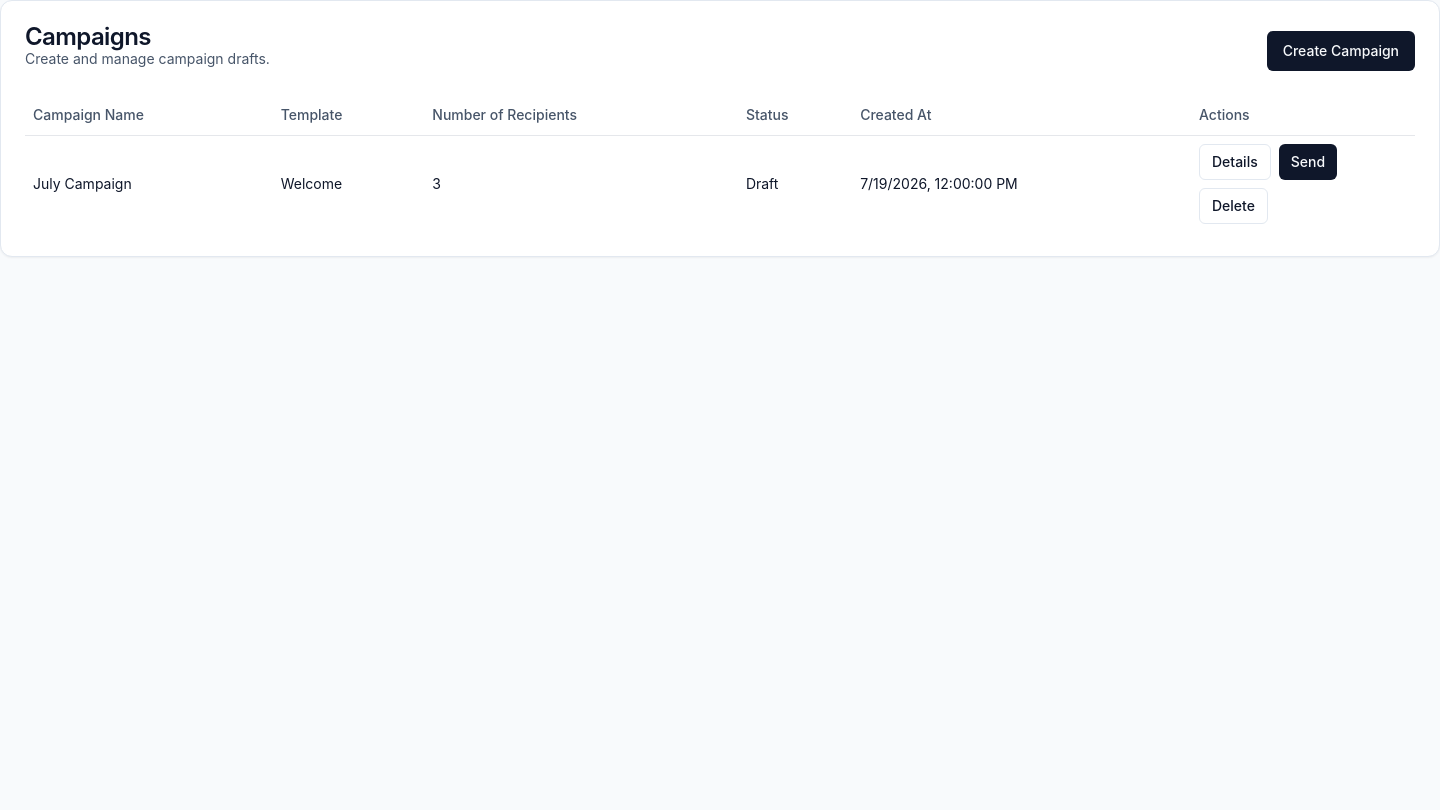
Test case: CampaignsPage › deletes campaign after confirmation and refreshes list
The width and height of the screenshot is (1440, 810).
Click the button "Delete". click: (1233, 206)
box: [1199,188,1268,224]
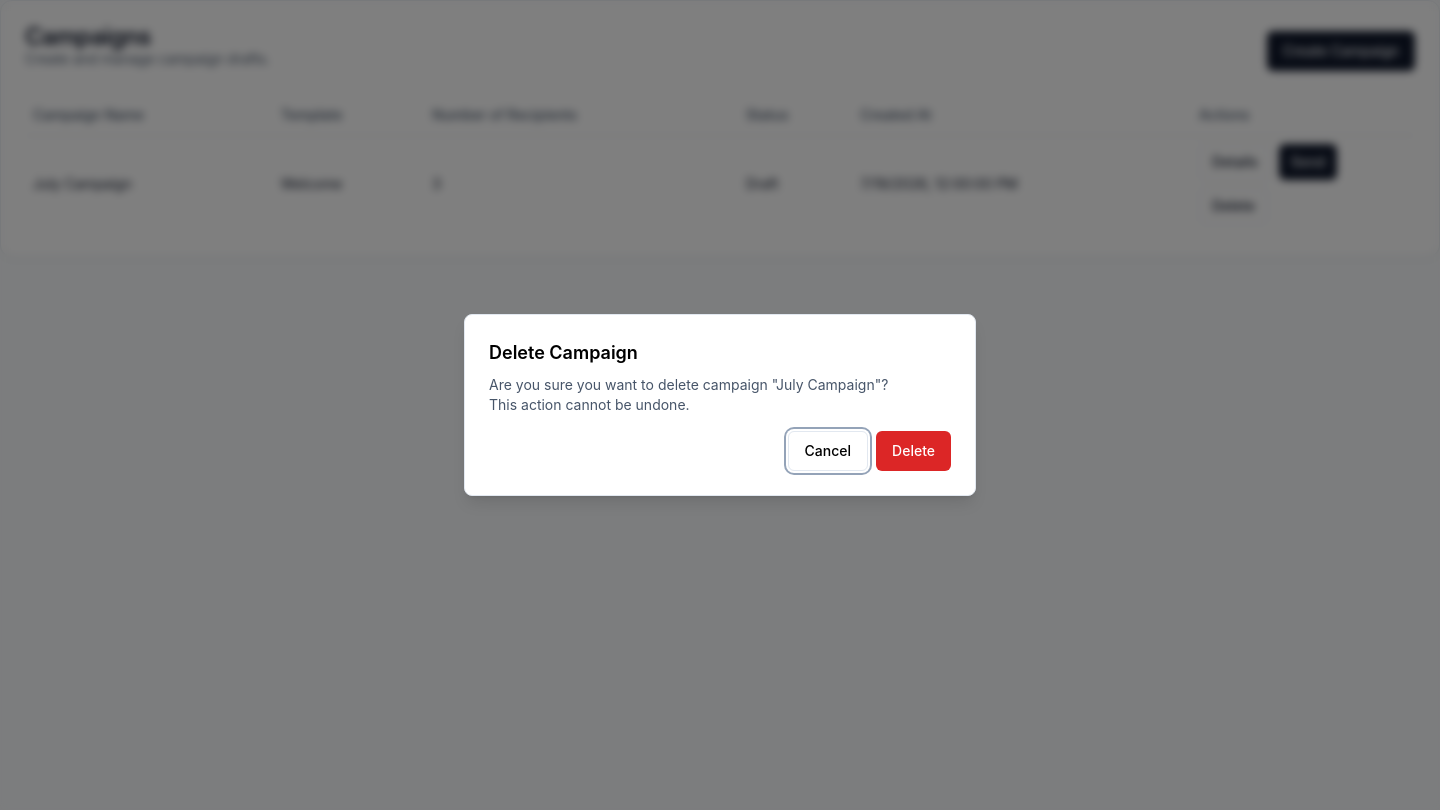
Check: the heading "Delete Campaign" is shown, box [489,342,638,363]
Click the button "Delete". click: (914, 451)
box: [876,431,951,471]
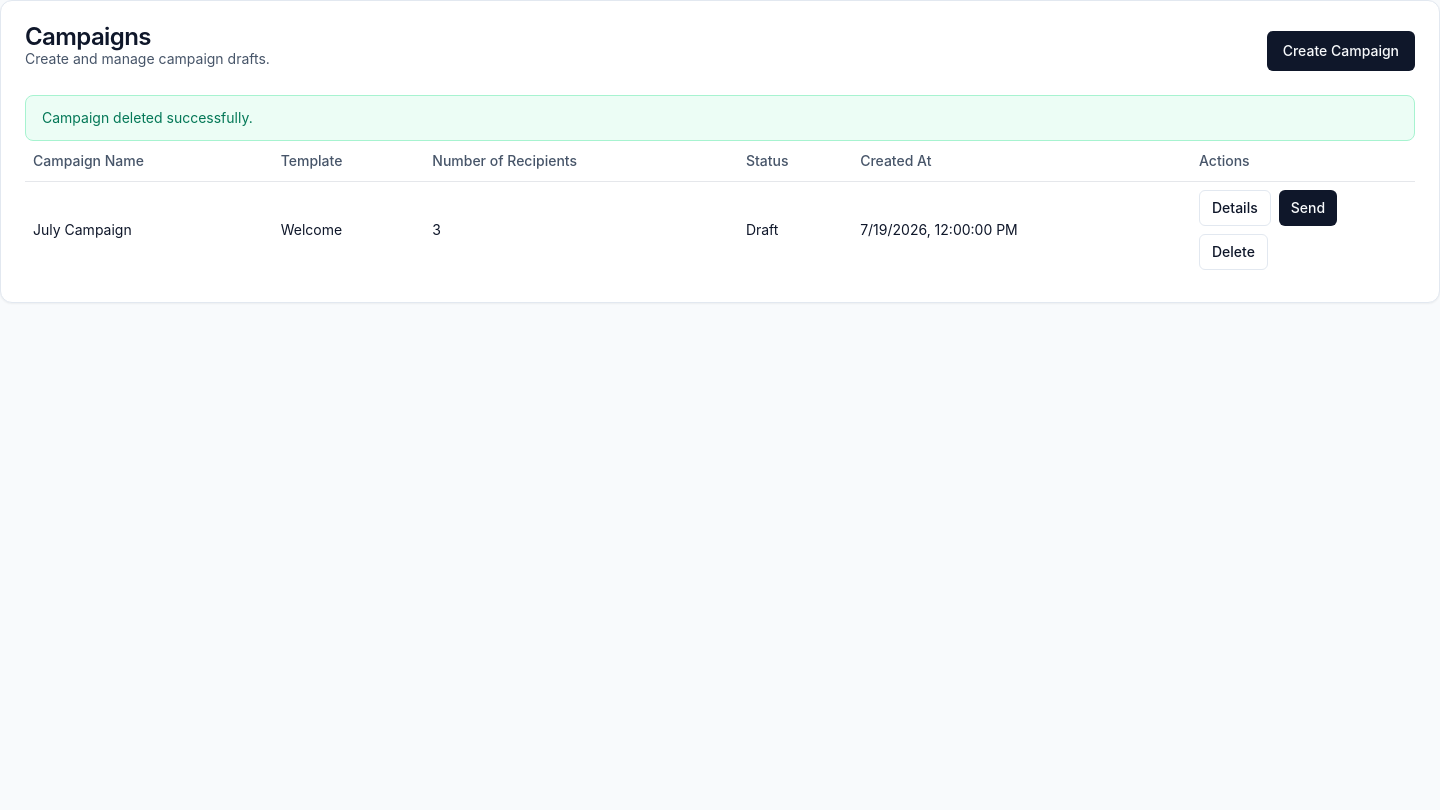
Check: the text "Campaign deleted successfully." is shown, box [25,95,1415,141]
